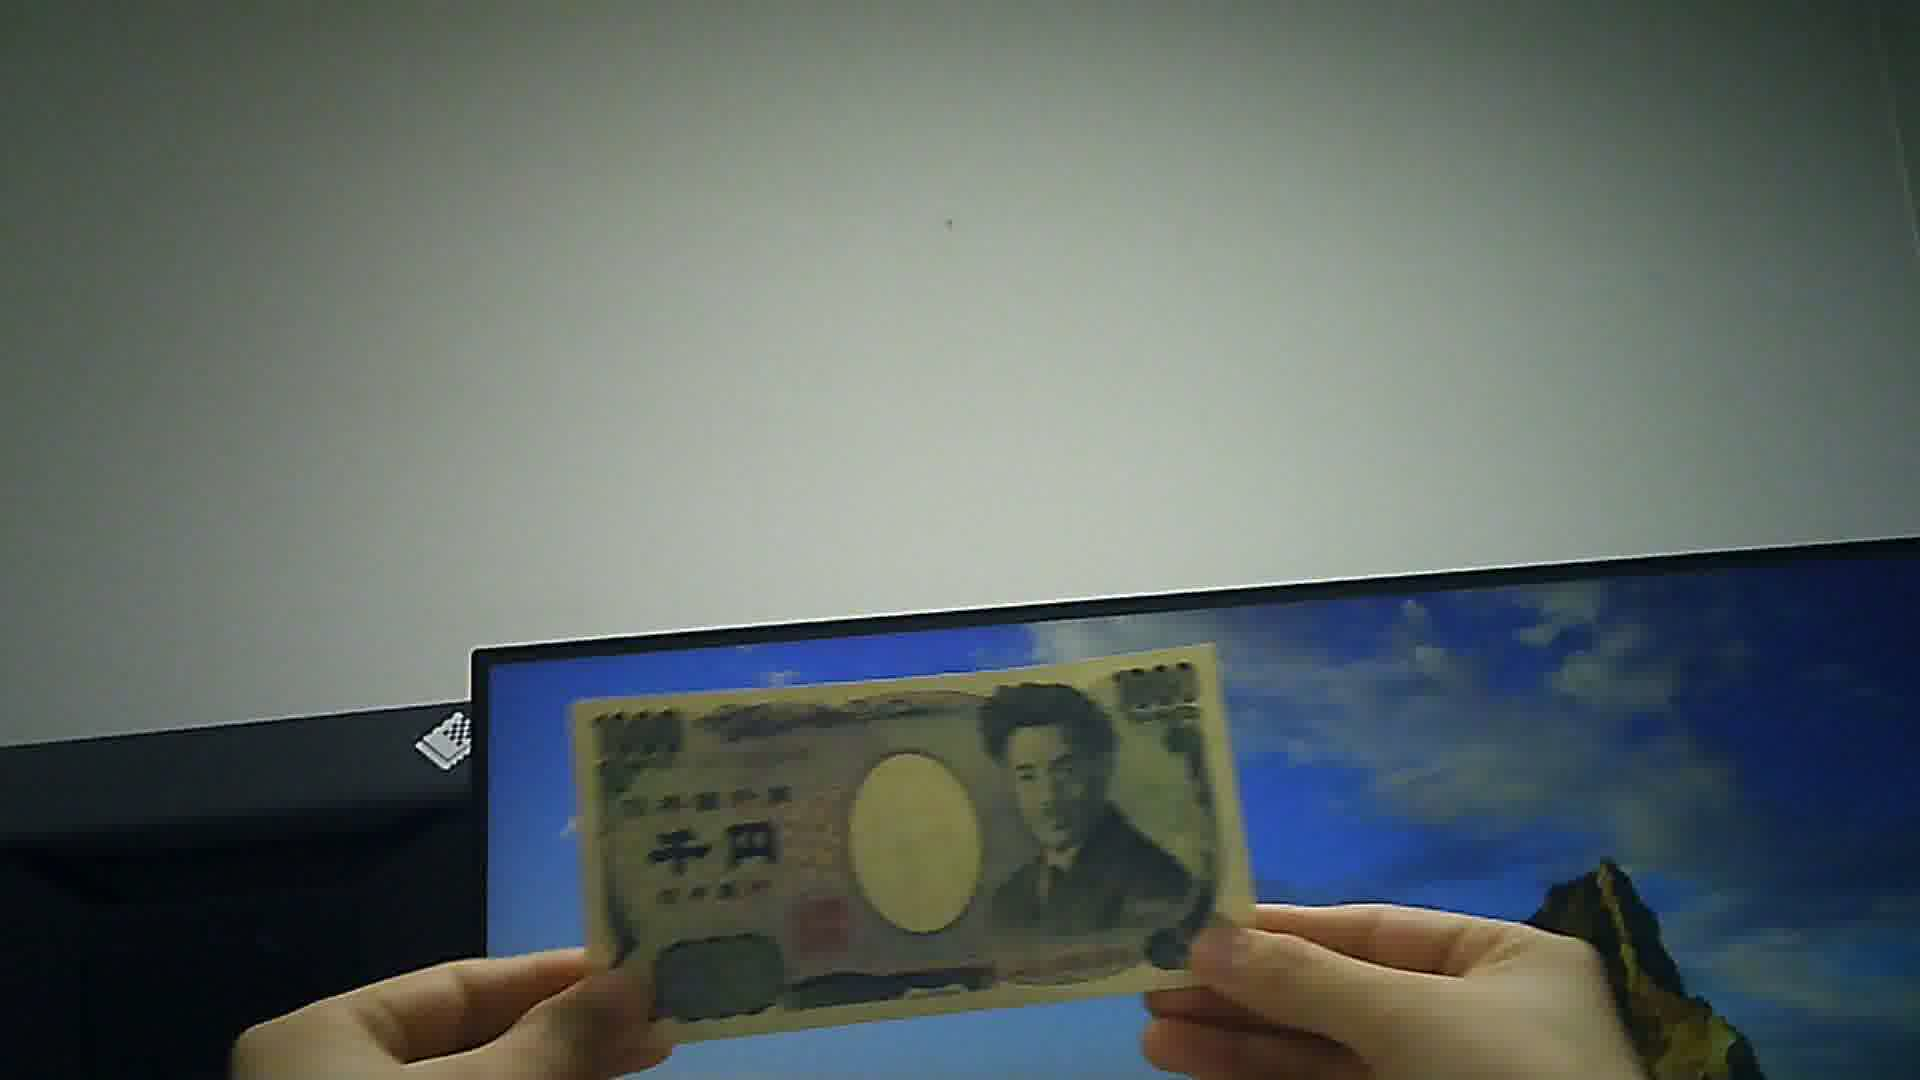1,000 Yen: (564, 669, 1280, 996)
